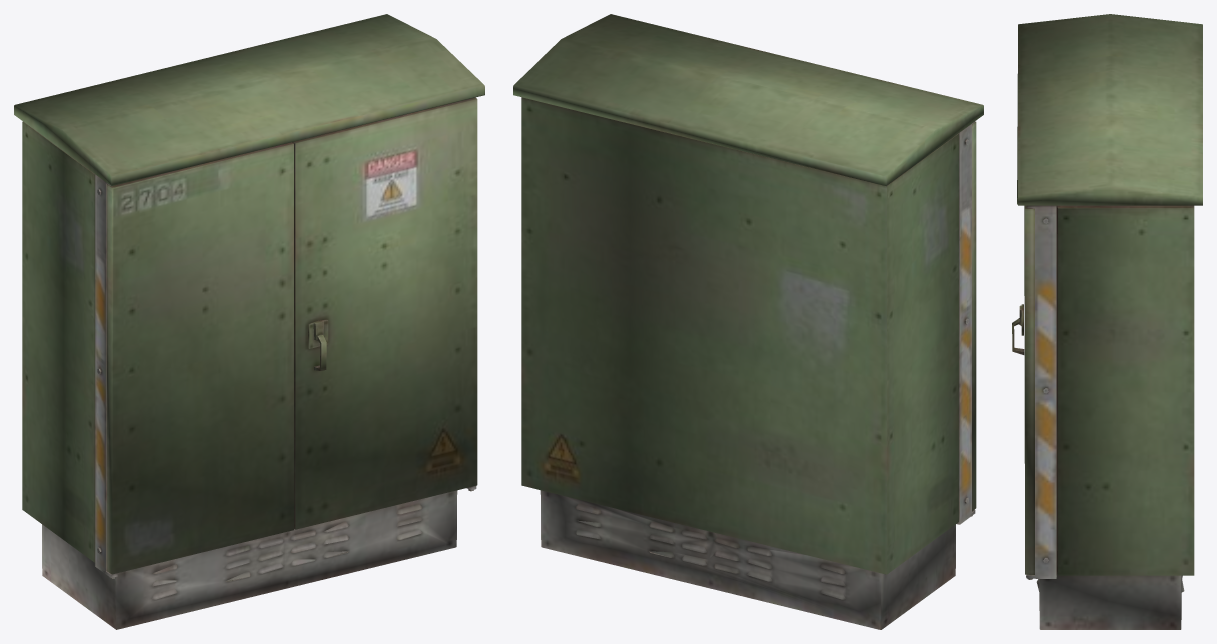
The model's file is utility_box_02.glb.
The picture shows the model from 3 angles, left to right: view 1: azimuth 30°, elevation 25°; view 2: azimuth 150°, elevation 25°; view 3: azimuth 270°, elevation 25°; orthographic projection. The views are drawn at different scales.
Visible parts, largest first — view 1: utility_box_02; view 2: utility_box_02; view 3: utility_box_02.
Part boxes in pixels (box(x1,y1,x2,y2)): utility_box_02: box(14, 14, 484, 629); utility_box_02: box(513, 14, 983, 629); utility_box_02: box(1012, 14, 1202, 629).
Size of the model in its own units: 0.9165 by 1.12 by 0.4287.
1 material, 1 textured.
